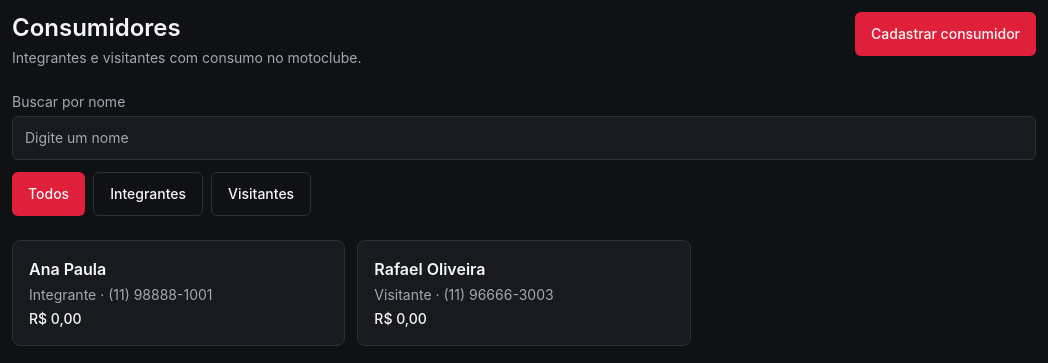
ConsumersView › filters the list by kind
Check: the button "Ana Paula Integrante · (11) 98888-1001 R$ 0,00" is shown, box [12,240,345,346]
Click the button "Visitantes": (261, 194) [211,172,311,216]
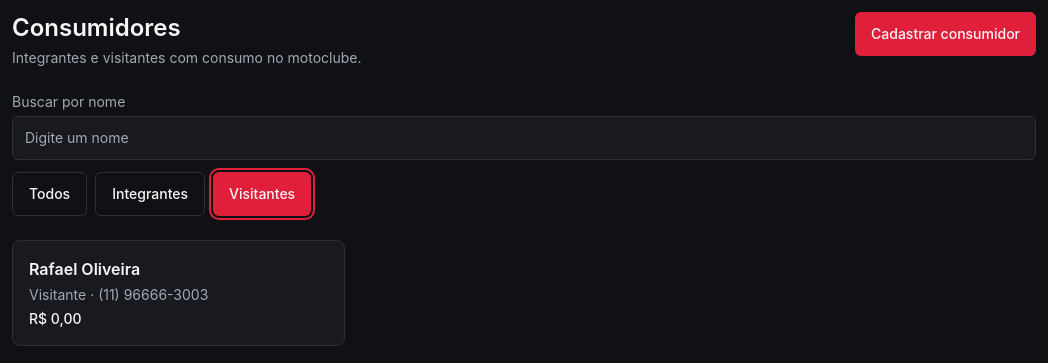
Check: the button "Rafael Oliveira Visitante · (11) 96666-3003 R$ 0,00" is shown, box [12,240,345,346]
Check: the button "Ana Paula" is gone
